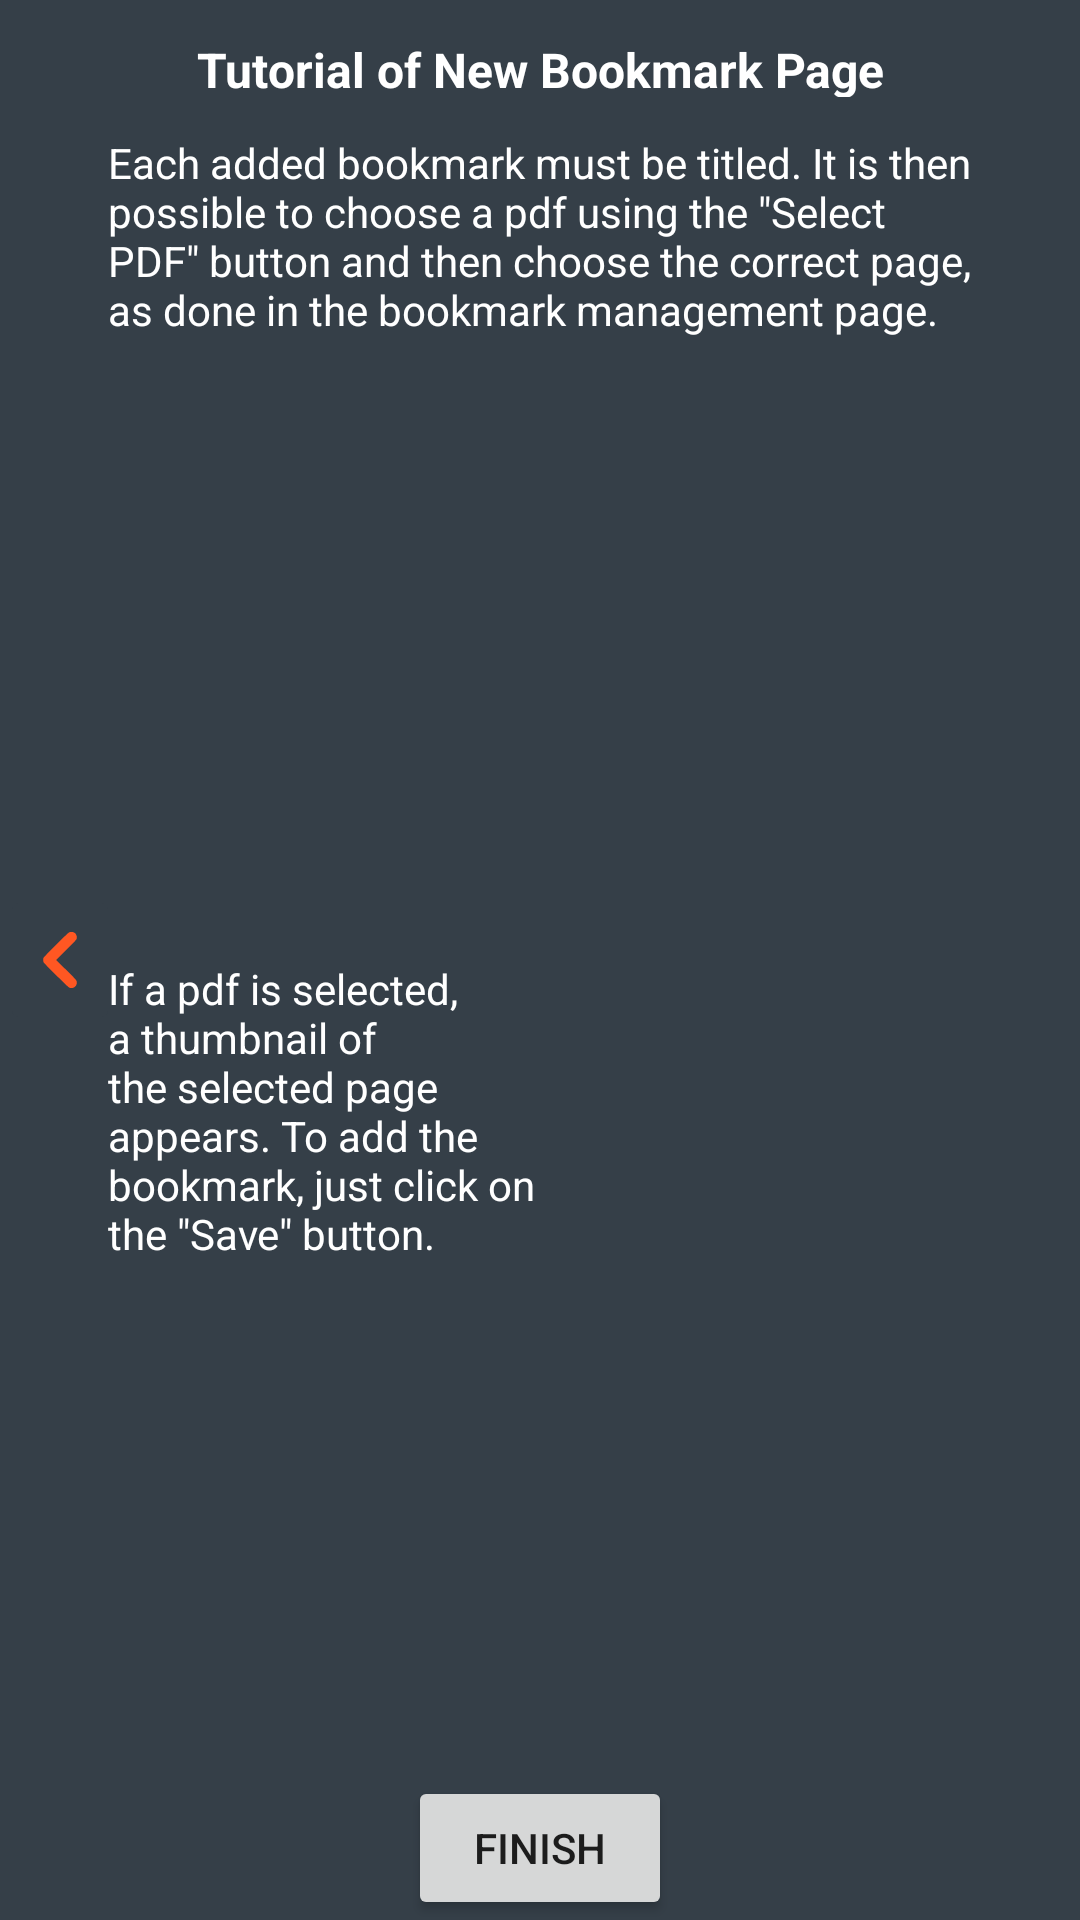

Named icons in this screenshot (1080px×1920px) and their centers, point (x, y):
left arrow: point (79, 968)
